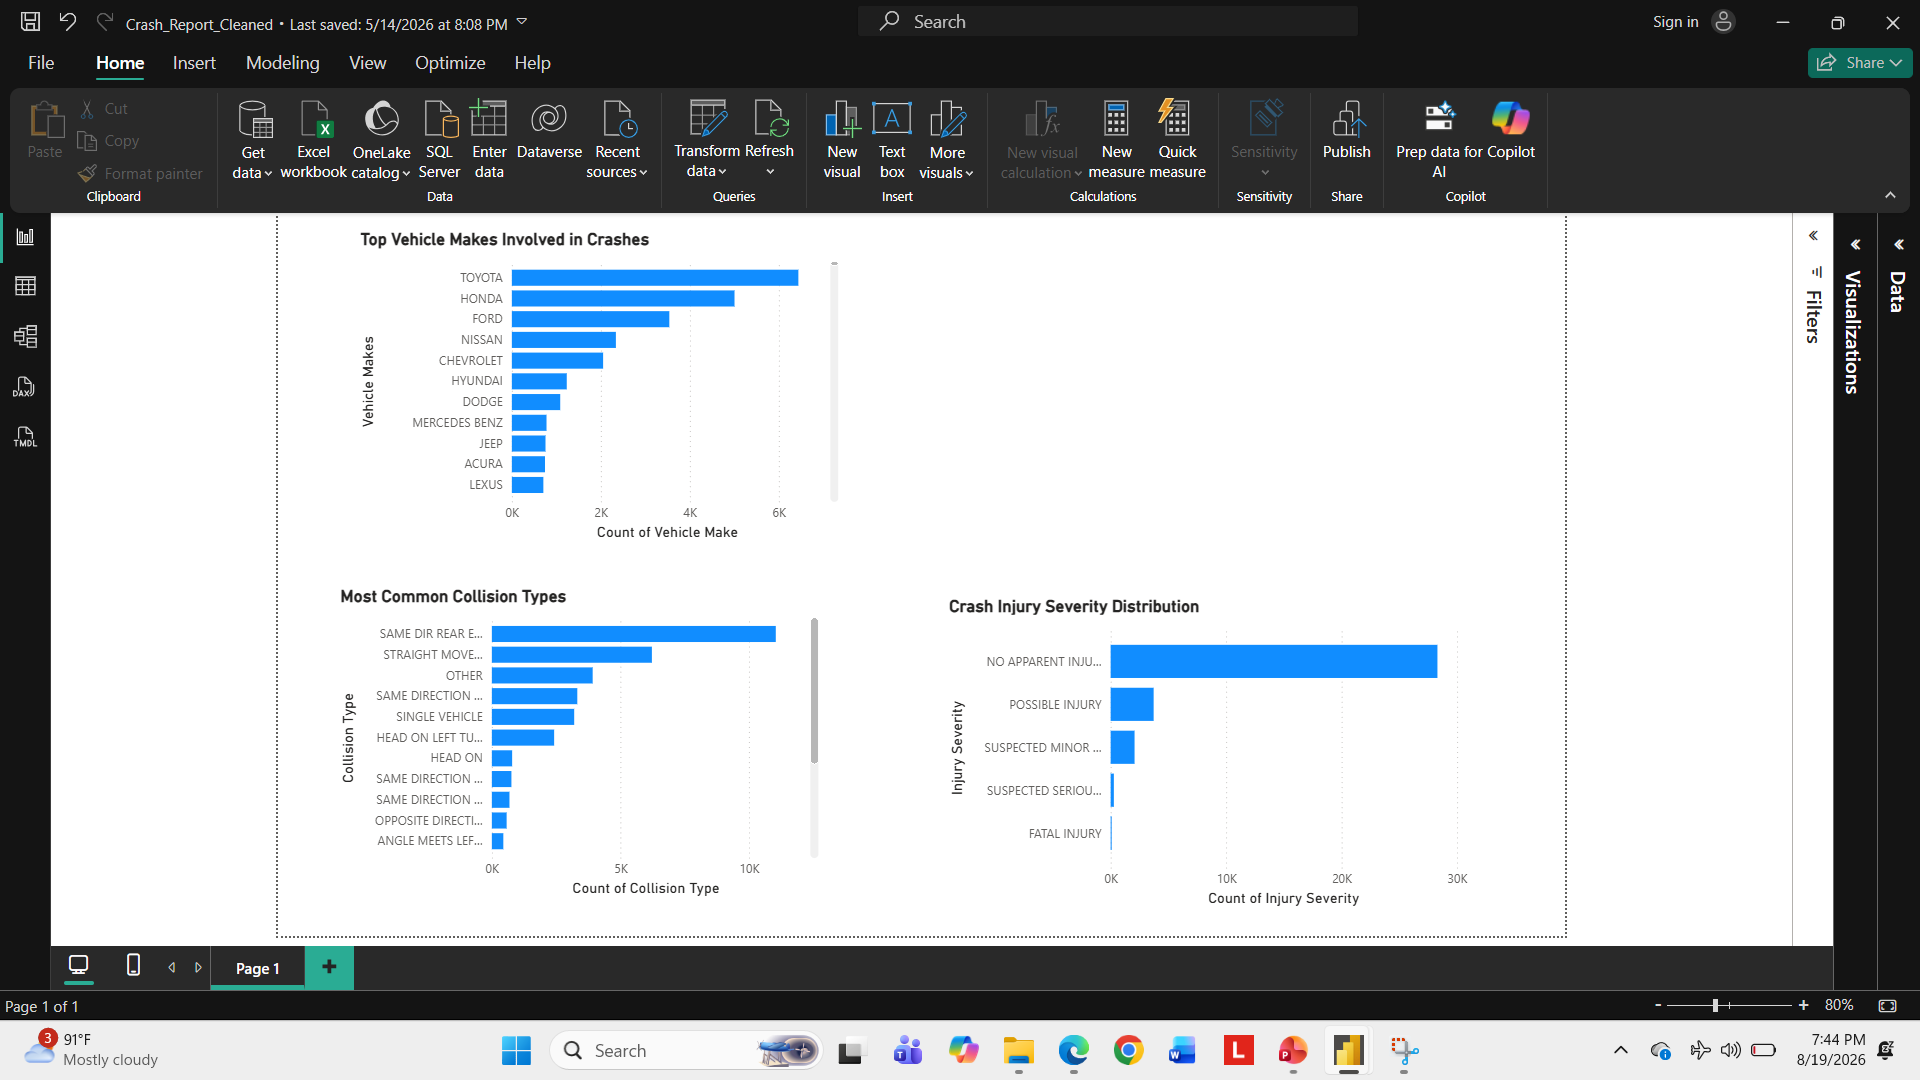

The dashboard page shown, as its layout file describes it:
{"tool":"powerbi","page":{"name":"Page 1","canvas":[1280,720],"ordinal":0},"visuals":[{"type":"clusteredBarChart","title":"Top Vehicle Makes Involved in Crashes","fields":{"Y":["CountNonNull(Crash_Reporting_Data.Vehicle Make)"],"Category":["Crash_Reporting_Data.Vehicle Make"]},"box":[75.5,26.1,485.8,314.2],"z":0},{"type":"clusteredBarChart","title":"Most Common Collision Types","fields":{"Category":["Crash_Reporting_Data.Collision Type"],"Y":["CountNonNull(Crash_Reporting_Data.Collision Type)"]},"box":[57.6,370.5,485.8,314.2],"z":1000},{"type":"clusteredBarChart","title":"Crash Injury Severity Distribution","fields":{"Category":["Crash_Reporting_Data.Injury Severity"],"Y":["CountNonNull(Crash_Reporting_Data.Injury Severity)"]},"box":[662.8,380.1,525.6,314.2],"z":2000}]}

Visuals, with their boxes on the page's 1280x720 design canvas (x1, y1, x2, y2). These are canvas units, not pixel positions in the 1920x1080 screenshot, which may show the page scaled, cropped or inside an application window:
"Top Vehicle Makes Involved in Crashes" clusteredBarChart: pyautogui.locateOnScreen(76, 26, 561, 340)
"Most Common Collision Types" clusteredBarChart: pyautogui.locateOnScreen(58, 370, 543, 685)
"Crash Injury Severity Distribution" clusteredBarChart: pyautogui.locateOnScreen(663, 380, 1188, 694)
